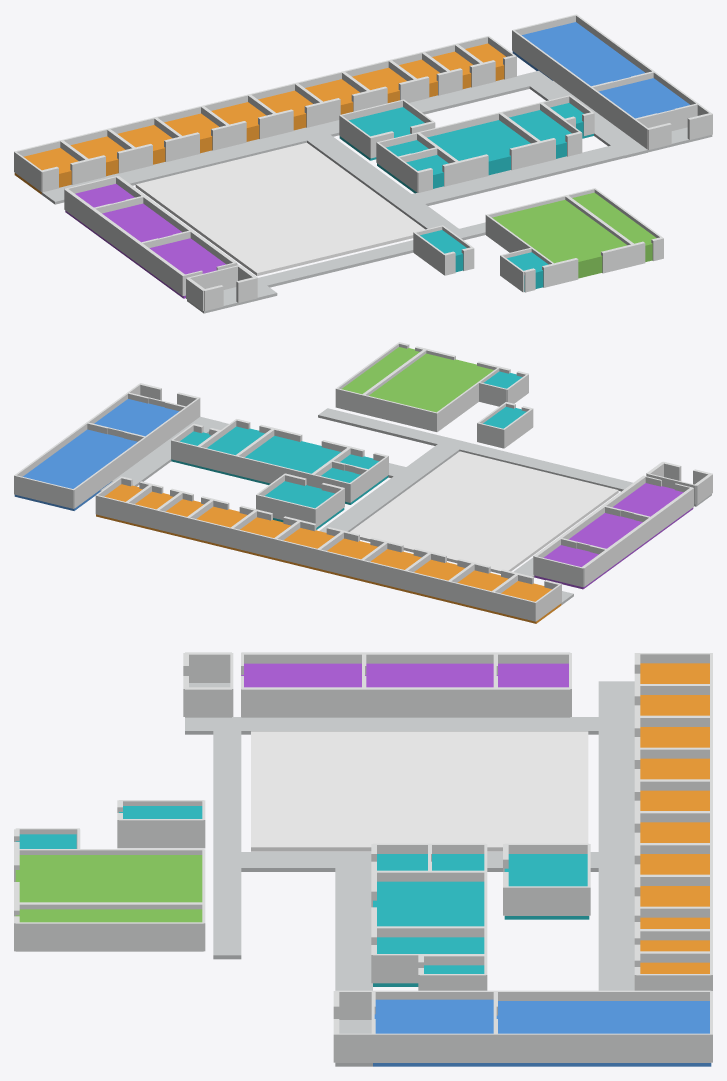
The model's file is level-1.glb.
3 views of the same model, one above another, from view 1: azimuth 30°, elevation 25°; view 2: azimuth 150°, elevation 25°; view 3: azimuth 270°, elevation 25° (orthographic). The views are drawn at different scales.
Visible parts, largest first — view 1: Plane, E corridor, Canteen | floor, Design & TechnologyWorkshop 01 | floor, B south corridor, B west link, Art Room | floor, A north link, Wood MachineWorkshop | floor, Design & TechnologyWorkshop 01 | wall W, Computer 02 | floor, C corridor (+42 smaller); view 2: Plane, Canteen | floor, A north link, Design & TechnologyWorkshop 01 | floor, B west link, Art Room | floor, Wood MachineWorkshop | floor, Canteen | wall N, Design & TechnologyWorkshop 01 | wall W, Computer 02 | floor, Computer 01 | floor, C corridor (+45 smaller); view 3: Plane, E corridor, Canteen | floor, Design & TechnologyWorkshop 01 | floor, A north link, Design & TechnologyWorkshop 01 | wall E, F corridor, Food Stalls | wall E, Art Room | floor, Wood MachineWorkshop | floor, B south corridor, Computer 02 | wall E (+56 smaller).
Boxes of the visible parts, left/top/right/bottom form: Plane: left=135, top=142, right=424, bottom=276; E corridor: left=41, top=70, right=551, bottom=204; Canteen | floor: left=492, top=200, right=626, bottom=278; Design & TechnologyWorkshop 01 | floor: left=512, top=22, right=644, bottom=86; B south corridor: left=412, top=145, right=624, bottom=205; B west link: left=307, top=135, right=458, bottom=230; Art Room | floor: left=427, top=120, right=530, bottom=175; A north link: left=257, top=222, right=485, bottom=287; Wood MachineWorkshop | floor: left=598, top=78, right=689, bottom=118; Design & TechnologyWorkshop 01 | wall W: left=512, top=30, right=590, bottom=107; Computer 02 | floor: left=92, top=203, right=181, bottom=266; C corridor: left=529, top=80, right=647, bottom=158; Plane: left=350, top=451, right=618, bottom=573; Canteen | floor: left=369, top=353, right=493, bottom=412; A north link: left=318, top=408, right=632, bottom=491; Design & TechnologyWorkshop 01 | floor: left=14, top=429, right=137, bottom=510; B west link: left=319, top=444, right=459, bottom=532; Art Room | floor: left=236, top=436, right=340, bottom=484; Wood MachineWorkshop | floor: left=94, top=399, right=178, bottom=436; Canteen | wall N: left=362, top=394, right=437, bottom=431; Design & TechnologyWorkshop 01 | wall W: left=73, top=437, right=146, bottom=508; Computer 02 | floor: left=568, top=513, right=652, bottom=570; Computer 01 | floor: left=613, top=483, right=693, bottom=538; C corridor: left=112, top=416, right=220, bottom=486; Plane: left=251, top=731, right=588, bottom=851; E corridor: left=598, top=681, right=634, bottom=990; Canteen | floor: left=15, top=855, right=202, bottom=902; Design & TechnologyWorkshop 01 | floor: left=495, top=1001, right=711, bottom=1066; A north link: left=213, top=729, right=241, bottom=959; Design & TechnologyWorkshop 01 | wall E: left=495, top=1033, right=711, bottom=1062; F corridor: left=185, top=717, right=598, bottom=734; Food Stalls | wall E: left=15, top=922, right=203, bottom=951; Art Room | floor: left=373, top=881, right=484, bottom=926; Wood MachineWorkshop | floor: left=373, top=999, right=495, bottom=1066; B south corridor: left=335, top=868, right=372, bottom=990; Computer 02 | wall E: left=363, top=687, right=495, bottom=717.
Bounding box in the file's own units: 96.22 × 3.75 × 74.34.
